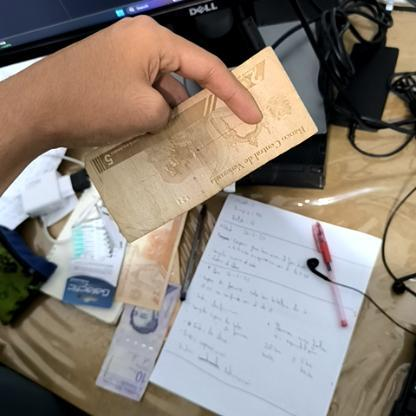five-back-vef: (58, 45, 320, 245)
